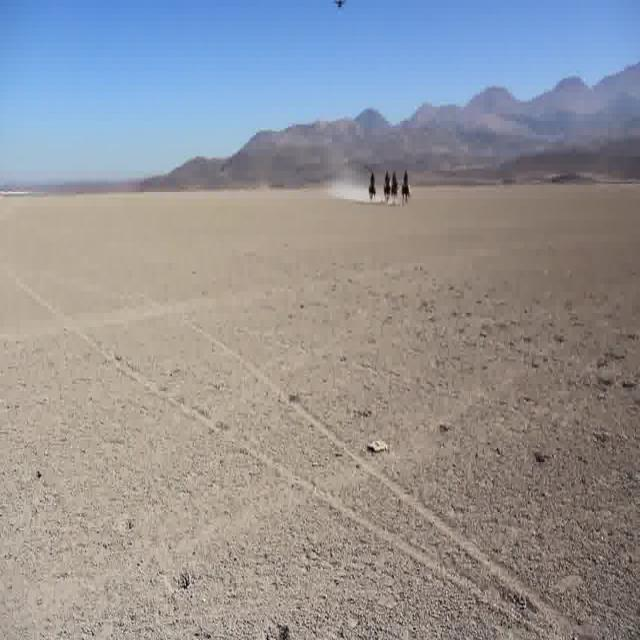drones: (325, 0, 352, 14)
